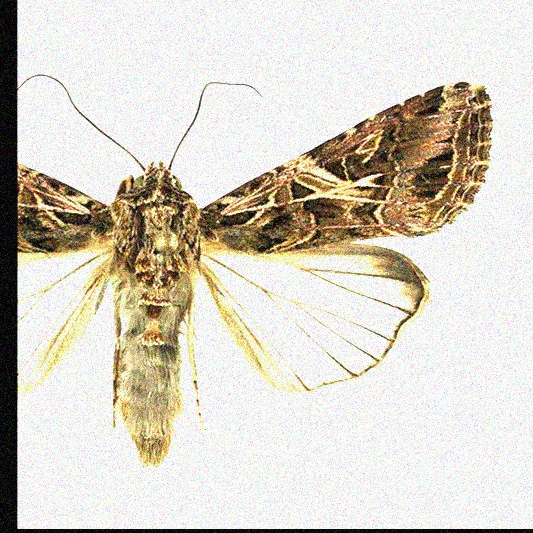Spodoptera litura: (17, 73, 493, 479)
